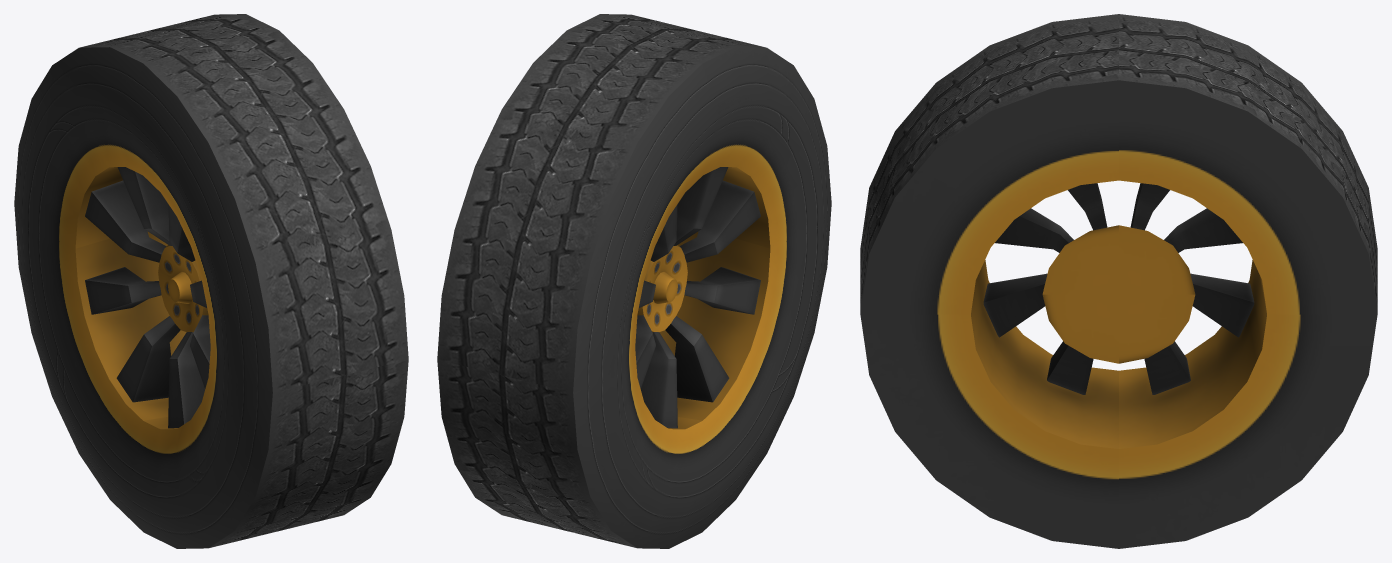
File: Construction_3_Wheel.FBX
3 renders of one model, left to right at view 1: azimuth 30°, elevation 25°; view 2: azimuth 150°, elevation 25°; view 3: azimuth 270°, elevation 25°, orthographic.
Visible parts, largest first — view 1: Construction_3_Wheel; view 2: Construction_3_Wheel; view 3: Construction_3_Wheel.
Boxes of the visible parts, x1,y1,x2,y2 form: Construction_3_Wheel: (14, 14, 408, 548); Construction_3_Wheel: (437, 14, 831, 548); Construction_3_Wheel: (860, 14, 1377, 548).
Bounding box in the file's own units: 28.06 × 82.59 × 82.59.
